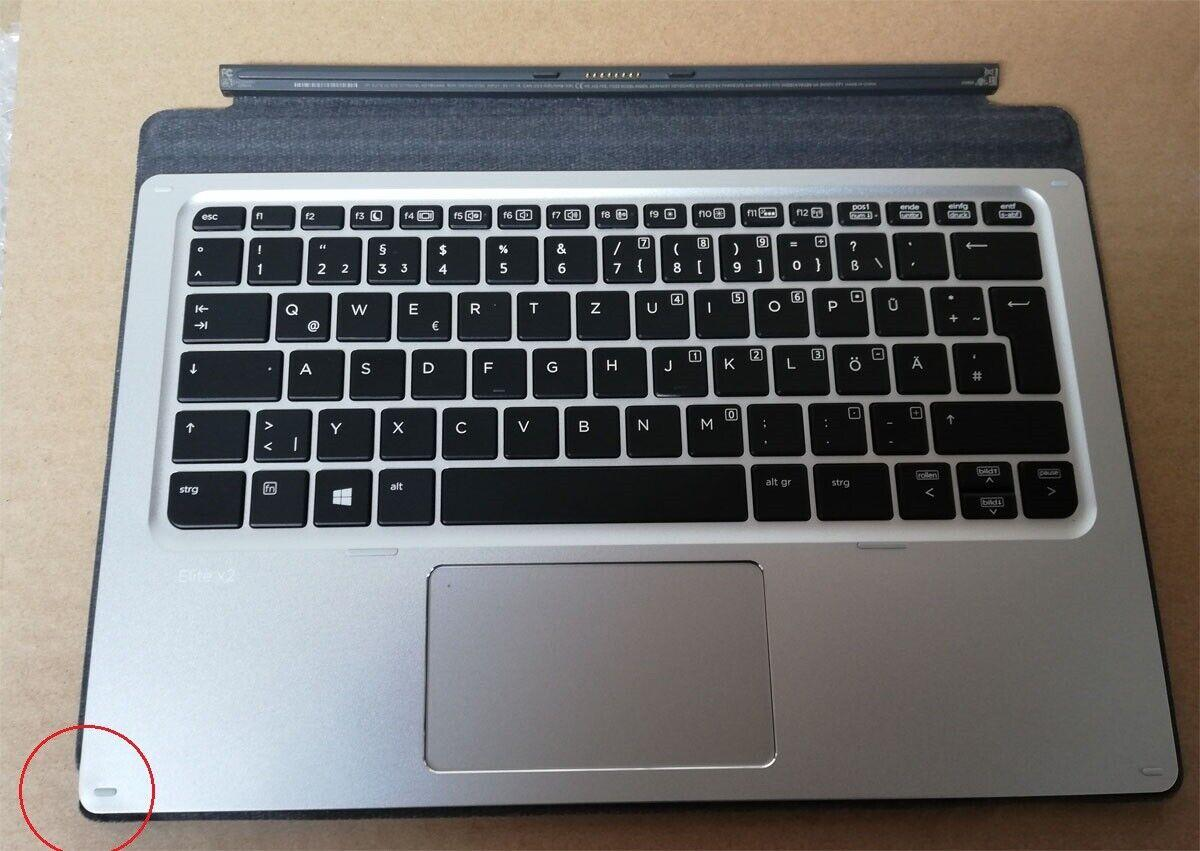0: (775, 229, 830, 281)
1: (246, 234, 301, 283)
2: (304, 233, 360, 282)
3: (364, 232, 419, 282)
4: (424, 232, 478, 282)
5: (482, 233, 537, 282)
6: (541, 232, 596, 282)
7: (601, 232, 655, 282)
8: (658, 231, 712, 282)
9: (717, 230, 771, 281)
a: (285, 346, 343, 398)
accent: (891, 228, 946, 277)
ae: (890, 339, 948, 393)
alt-left: (375, 465, 432, 524)
altgr-right: (749, 461, 809, 520)
b: (561, 402, 619, 457)
c: (438, 404, 496, 458)
caret: (185, 235, 241, 282)
comma: (744, 400, 803, 454)
d: (408, 345, 464, 398)
del: (948, 228, 1038, 278)
e: (393, 288, 450, 339)
enter: (986, 282, 1058, 393)
f: (469, 345, 524, 397)
g: (529, 345, 585, 397)
h: (589, 344, 645, 396)
hash: (949, 339, 1008, 392)
i: (692, 285, 748, 338)
j: (650, 343, 706, 396)
k: (710, 342, 767, 396)
keyboard: (140, 172, 1100, 544)
l: (771, 341, 827, 394)
less: (250, 404, 310, 461)
m: (683, 400, 741, 456)
minus: (866, 399, 926, 452)
n: (622, 401, 680, 457)
o: (752, 284, 808, 337)
oe: (830, 341, 889, 394)
p: (811, 283, 867, 336)
plus: (928, 282, 985, 334)
point: (806, 399, 865, 453)
q: (272, 288, 330, 341)
r: (454, 288, 510, 340)
s: (347, 346, 403, 398)
shift-left: (169, 405, 247, 461)
shift-lock: (176, 345, 282, 399)
shift-right: (928, 397, 1066, 452)
space: (436, 464, 746, 523)
ss: (832, 229, 888, 279)
strg-left: (164, 467, 243, 526)
strg-right: (811, 459, 892, 520)
t: (514, 287, 569, 339)
tab: (180, 288, 268, 340)
u: (632, 286, 688, 339)
ue: (869, 282, 926, 334)
v: (500, 403, 557, 458)
w: (333, 287, 389, 339)
x: (376, 404, 434, 459)
y: (314, 405, 372, 459)
z: (573, 287, 629, 339)
